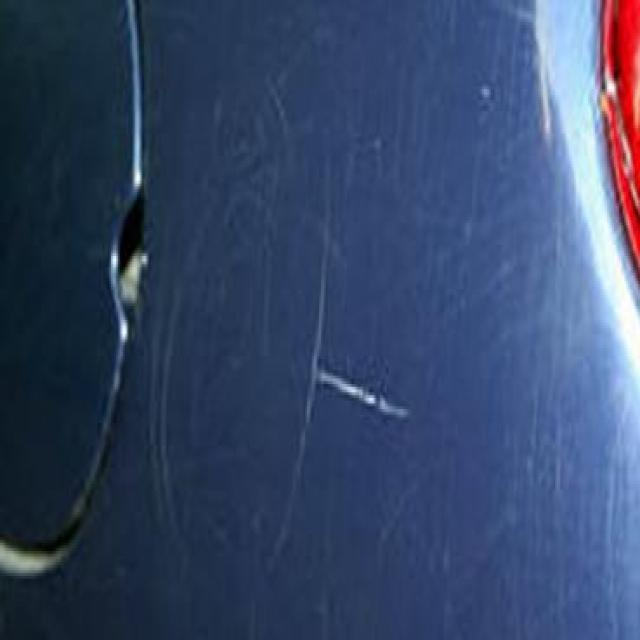scratch: (308, 352, 414, 435)
